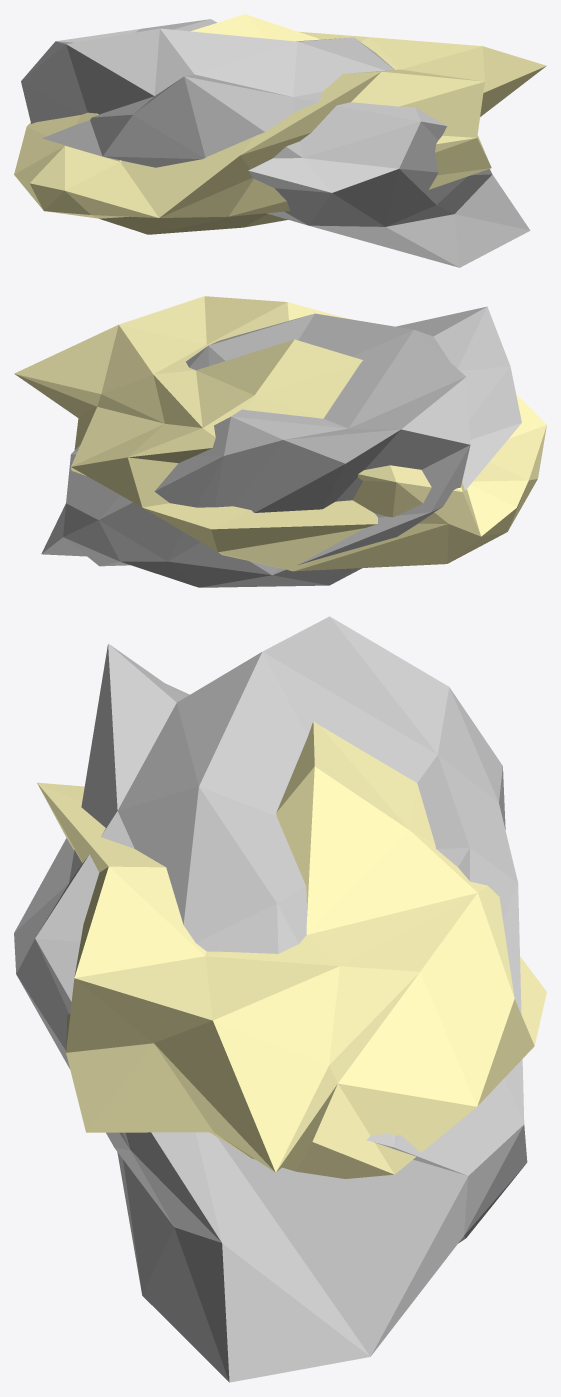
File: stone2_00000.fbx
3 renders of one model, top to bottom at view 1: azimuth 30°, elevation 25°; view 2: azimuth 150°, elevation 25°; view 3: azimuth 270°, elevation 25°, orthographic. The views are drawn at different scales.
Parts seen in each view (by area): view 1: stone2; view 2: stone2; view 3: stone2.
Boxes of the visible parts, <box> form: stone2: <box>14,14,546,267</box>; stone2: <box>14,296,546,587</box>; stone2: <box>14,616,546,1382</box>.
Bounding box in the file's own units: 326 × 174 × 186.
